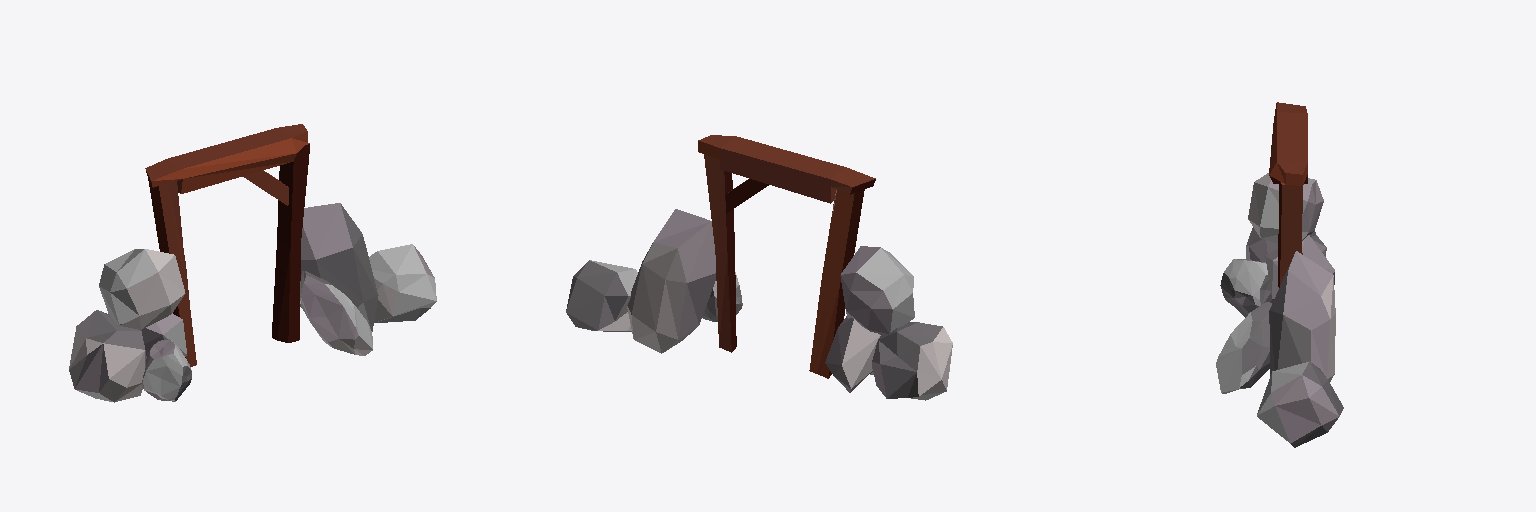
The picture shows the model from 3 angles: view 1: azimuth 30°, elevation 25°; view 2: azimuth 150°, elevation 25°; view 3: azimuth 270°, elevation 25°; orthographic projection.
Parts seen in each view (by area): view 1: Cube.003_Cube.007, pfahl_Ob_Cube.002, Cube_Cube.004, Cube.002_Cube.006, pfahl_R_Cube.001, Cube.004_Cube.008, Cube.006_Cube.010, Pfahl_L_Cube, Cube.005_Cube.009, Cube.001_Cube.005, Pfahl_RO_Cube.003; view 2: Cube.003_Cube.007, pfahl_Ob_Cube.002, Cube_Cube.004, Cube.002_Cube.006, Pfahl_L_Cube, Cube.004_Cube.008, pfahl_R_Cube.001, Cube.001_Cube.005, Pfahl_RO_Cube.003, Cube.006_Cube.010; view 3: Cube.003_Cube.007, Cube.004_Cube.008, Cube.006_Cube.010, pfahl_Ob_Cube.002, Cube.002_Cube.006, Cube.005_Cube.009, pfahl_R_Cube.001, Cube.001_Cube.005, Cube_Cube.004.
Part boxes in pixels (left/top/right/bottom): Cube.003_Cube.007: left=300, top=203, right=378, bottom=331; pfahl_Ob_Cube.002: left=145, top=124, right=307, bottom=193; Cube_Cube.004: left=69, top=310, right=146, bottom=402; Cube.002_Cube.006: left=99, top=249, right=185, bottom=329; pfahl_R_Cube.001: left=272, top=143, right=309, bottom=342; Cube.004_Cube.008: left=369, top=244, right=436, bottom=322; Cube.006_Cube.010: left=300, top=270, right=372, bottom=355; Pfahl_L_Cube: left=148, top=179, right=196, bottom=366; Cube.005_Cube.009: left=142, top=339, right=191, bottom=401; Cube.001_Cube.005: left=141, top=313, right=186, bottom=356; Pfahl_RO_Cube.003: left=243, top=170, right=288, bottom=205; Cube.003_Cube.007: left=627, top=209, right=715, bottom=353; pfahl_Ob_Cube.002: left=698, top=135, right=875, bottom=203; Cube_Cube.004: left=872, top=322, right=952, bottom=400; Cube.002_Cube.006: left=840, top=246, right=914, bottom=334; Pfahl_L_Cube: left=809, top=189, right=864, bottom=378; Cube.004_Cube.008: left=566, top=260, right=637, bottom=331; pfahl_R_Cube.001: left=704, top=154, right=736, bottom=352; Cube.001_Cube.005: left=825, top=316, right=880, bottom=392; Pfahl_RO_Cube.003: left=725, top=179, right=768, bottom=213; Cube.006_Cube.010: left=702, top=272, right=742, bottom=321; Cube.003_Cube.007: left=1269, top=251, right=1335, bottom=381; Cube.004_Cube.008: left=1257, top=361, right=1343, bottom=447; Cube.006_Cube.010: left=1216, top=302, right=1271, bottom=393; pfahl_Ob_Cube.002: left=1269, top=102, right=1307, bottom=185; Cube.002_Cube.006: left=1248, top=173, right=1323, bottom=242; Cube.005_Cube.009: left=1220, top=259, right=1272, bottom=317; pfahl_R_Cube.001: left=1278, top=181, right=1302, bottom=287; Cube.001_Cube.005: left=1265, top=235, right=1334, bottom=300; Cube_Cube.004: left=1246, top=227, right=1326, bottom=261.
Bounding box in the file's own units: 19.56 × 11.46 × 6.03.
11 materials, 2 textured.